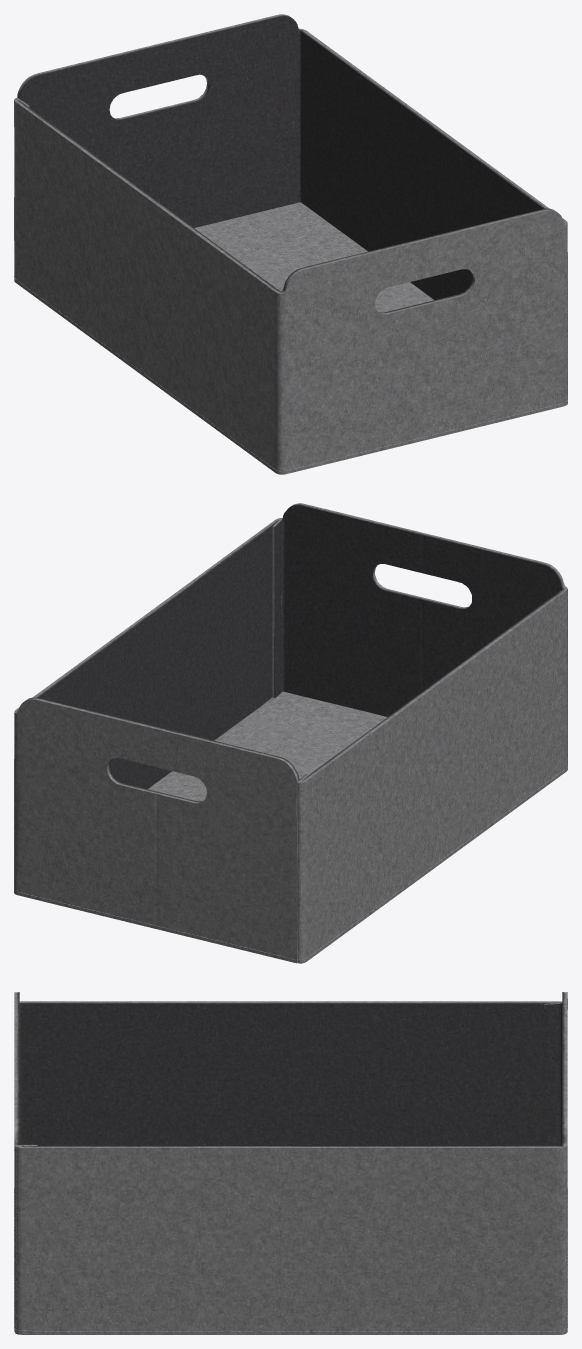
The picture shows the model from 3 angles, top to bottom: view 1: azimuth 30°, elevation 25°; view 2: azimuth 150°, elevation 25°; view 3: azimuth 270°, elevation 25°; orthographic projection. The views are drawn at different scales.
Parts seen in each view (by area): view 1: model; view 2: model; view 3: model.
Part boxes in pixels (x1,y1,x2,y2): model: (14, 14, 567, 474); model: (14, 503, 567, 963); model: (14, 992, 567, 1334).
Bounding box in the file's own units: 0.3204 × 0.2102 × 0.5104.
1 material, 1 textured.
